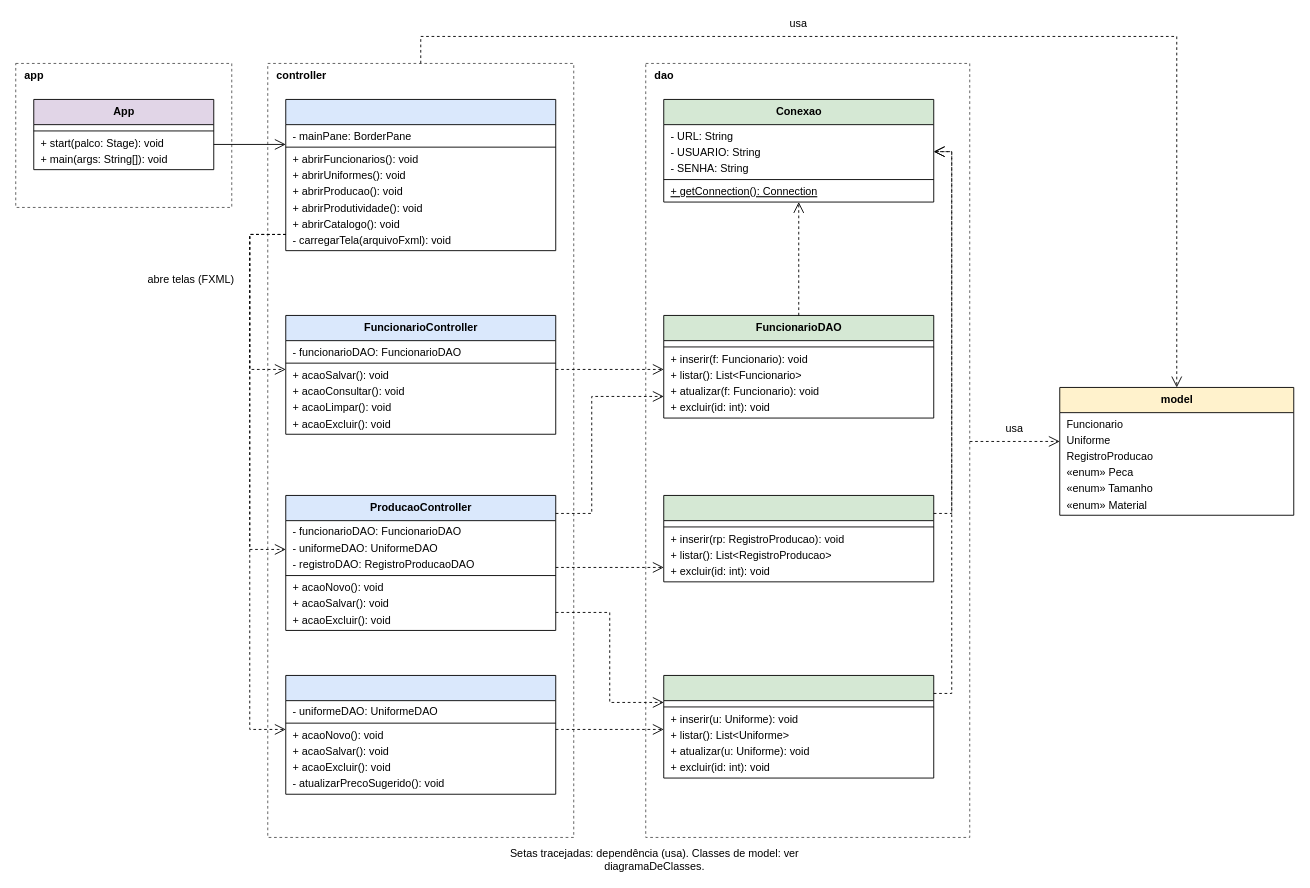
This 1310x888 diagram has some shape labels left out. Here are the shapes that lost their labels. From the top down, the box of each, then its label:
(285, 99, 556, 251): MainController
(663, 495, 934, 582): RegistroProducaoDAO
(285, 675, 556, 794): UniformeController
(663, 675, 934, 778): UniformeDAO
